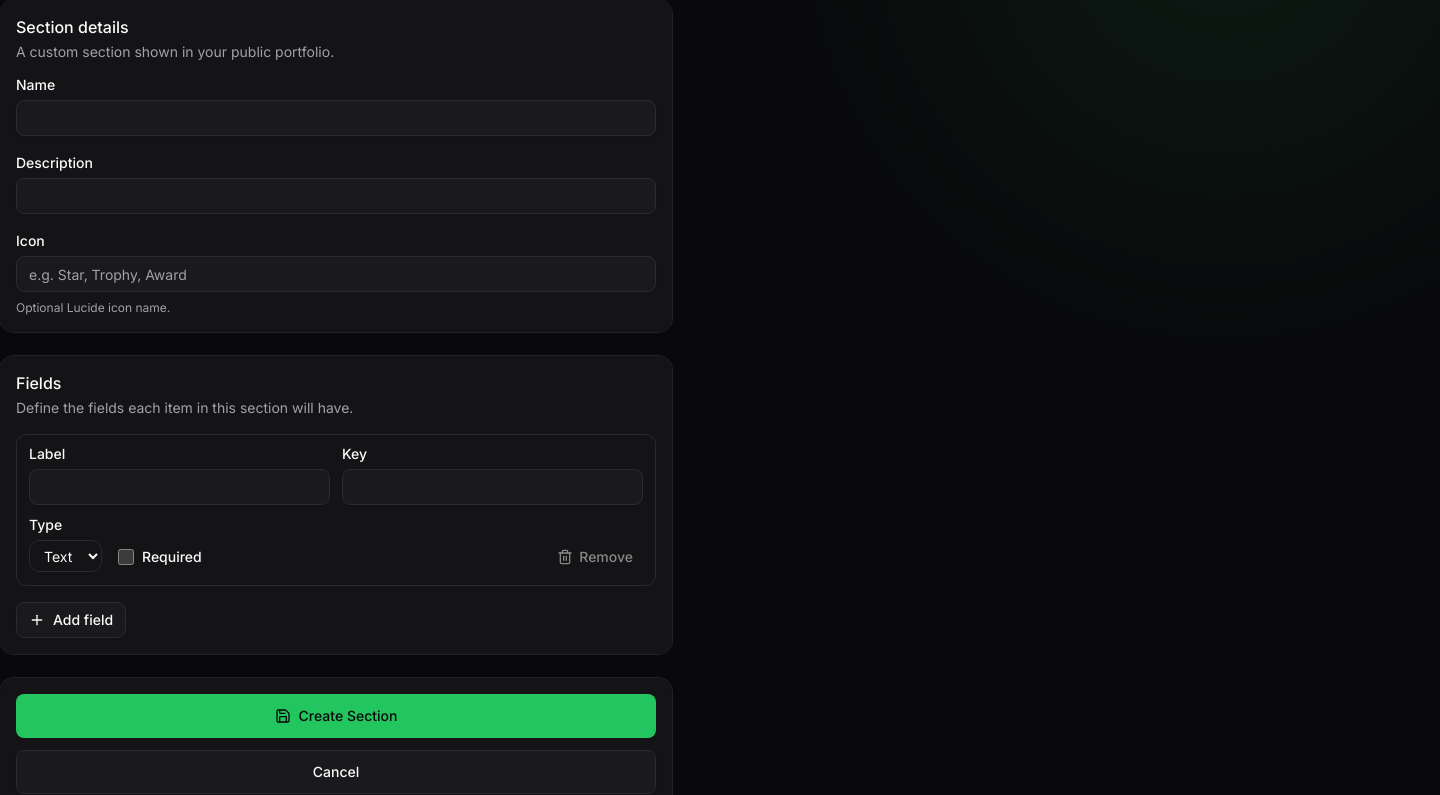
Test: SectionForm › blocks submission when the name is empty
Click the button "Create Section" at (336, 716), box [16,694,656,738]
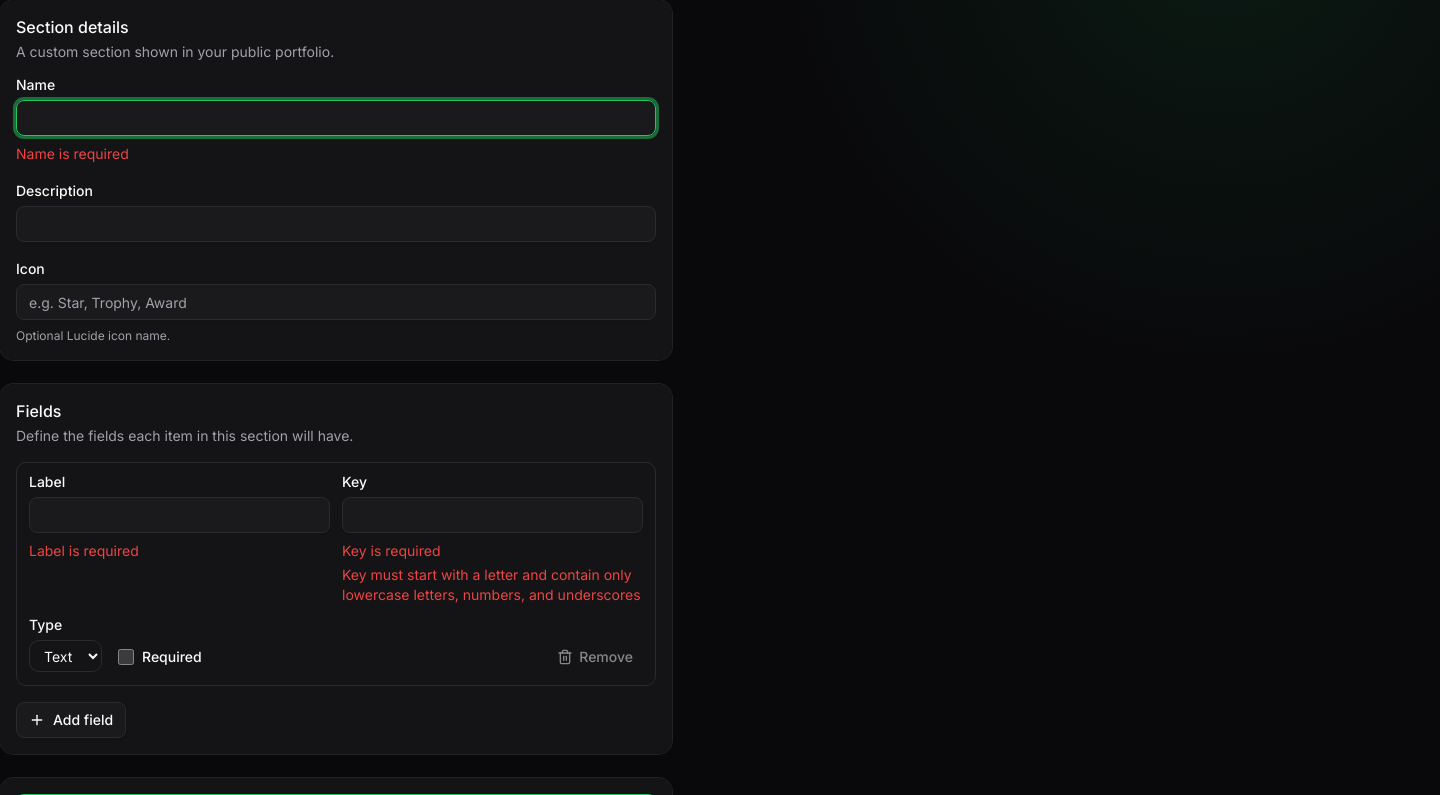
expect the text "Name is required" is shown: met, box [16,145,129,162]
